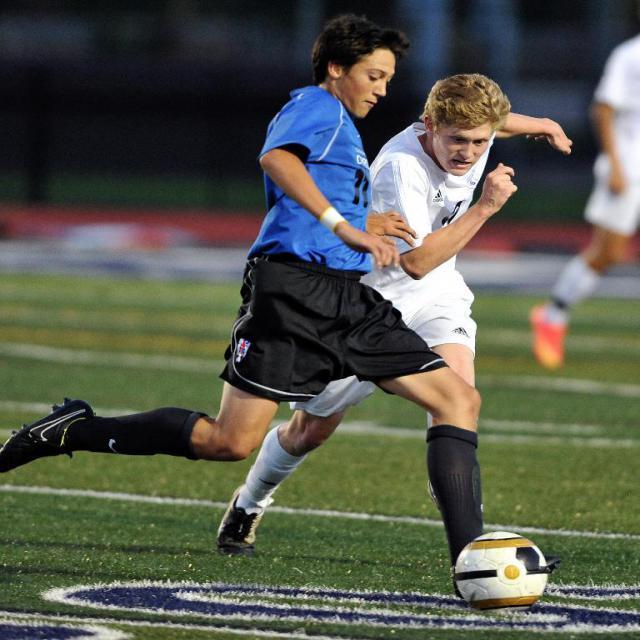football: (428, 518, 575, 620)
